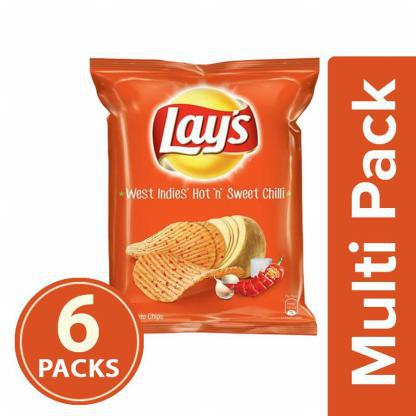hot_and_sweet: (86, 55, 320, 337)
